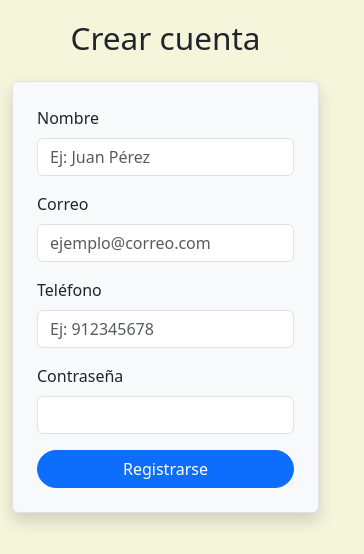
Test case: Componente registro › Muestra mensaje de error si el formato del correo es invalido
Type "Stefania" into the field labelled "Nombre". click: (166, 157)
box: [37, 138, 294, 176]
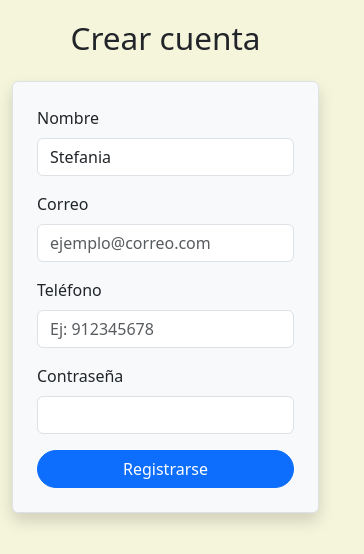
Type "correo-invalido" into the field labelled "Correo". click: (166, 243)
box: [37, 224, 294, 262]
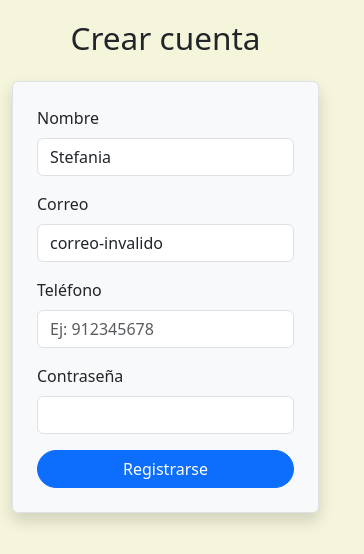
Type "987654321" into the field labelled "Teléfono". click: (166, 329)
box: [37, 310, 294, 348]
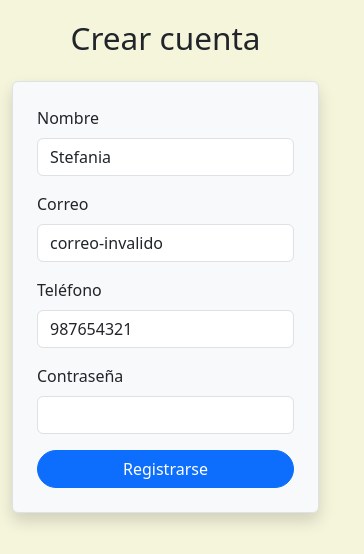
Type "password123" into the password field labelled "Contraseña". click: (166, 415)
box: [37, 396, 294, 434]
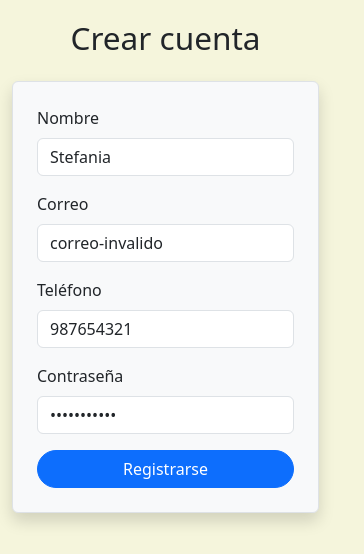
Click the button "Registrarse". click: (166, 469)
box: [37, 450, 294, 488]
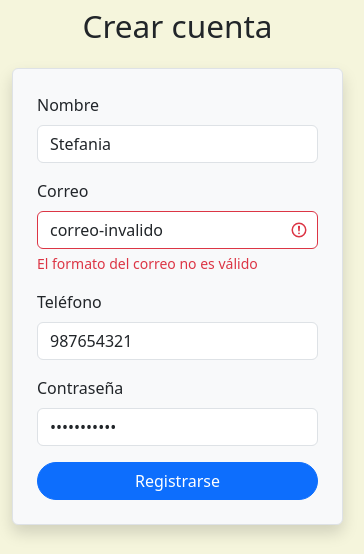
Result: the text "El formato del correo no es válido" is shown at [37, 254, 258, 273]
